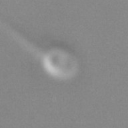normal: (1, 13, 43, 58)
